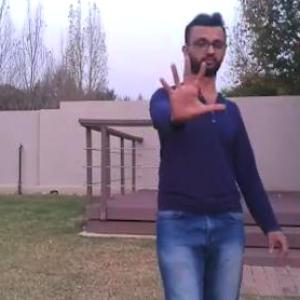follow_hand: (155, 53, 228, 126)
